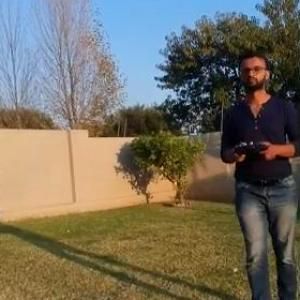follow: (216, 47, 300, 299)
